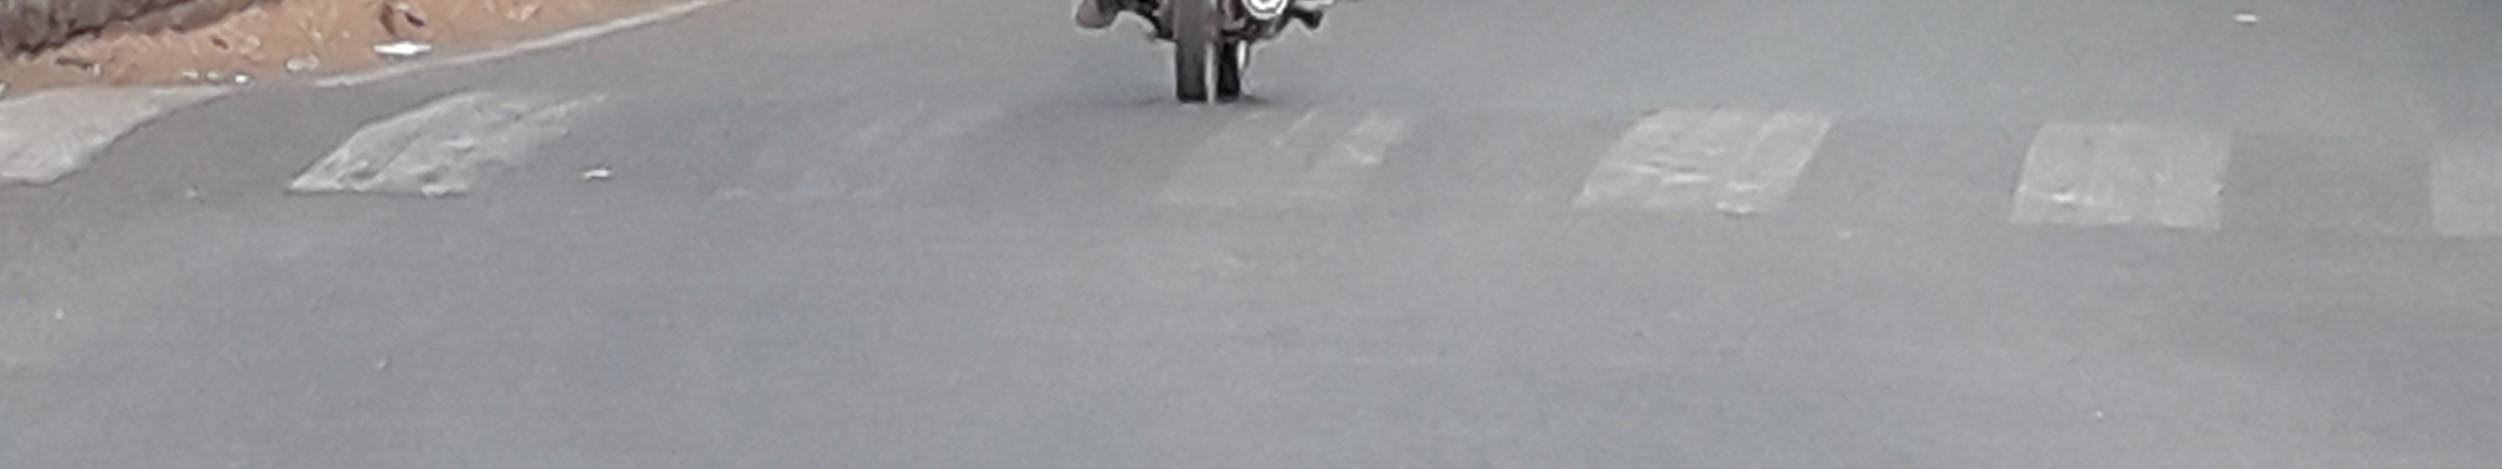speed-bump: (6, 76, 2502, 236)
